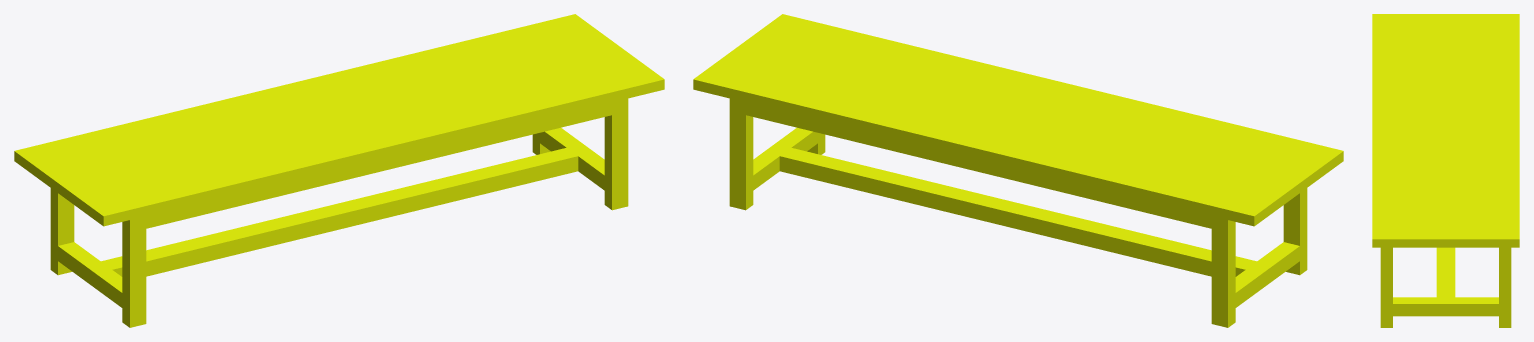
File: DiningTable1.FBX
3 views of the same model, side by side, from view 1: azimuth 30°, elevation 25°; view 2: azimuth 150°, elevation 25°; view 3: azimuth 270°, elevation 25° (orthographic). The views are drawn at different scales.
Parts seen in each view (by area): view 1: Box002; view 2: Box002; view 3: Box002.
Boxes of the visible parts, <box> form: Box002: <box>14,14,664,327</box>; Box002: <box>693,14,1343,327</box>; Box002: <box>1372,14,1519,327</box>.
Size of the model in its own units: 6.79 by 1.42 by 1.87.
